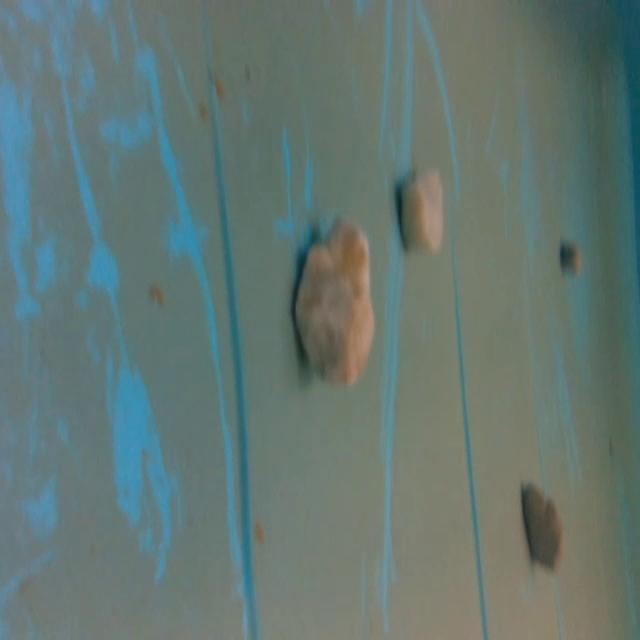rock: (291, 210, 380, 389), (518, 476, 573, 572), (396, 160, 448, 257)
